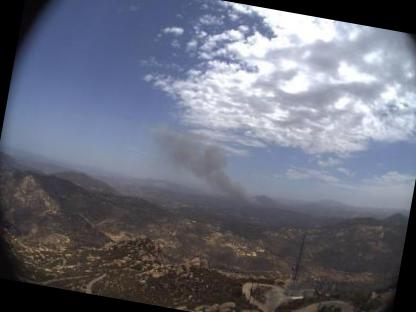Smoke: (136, 119, 274, 216)
